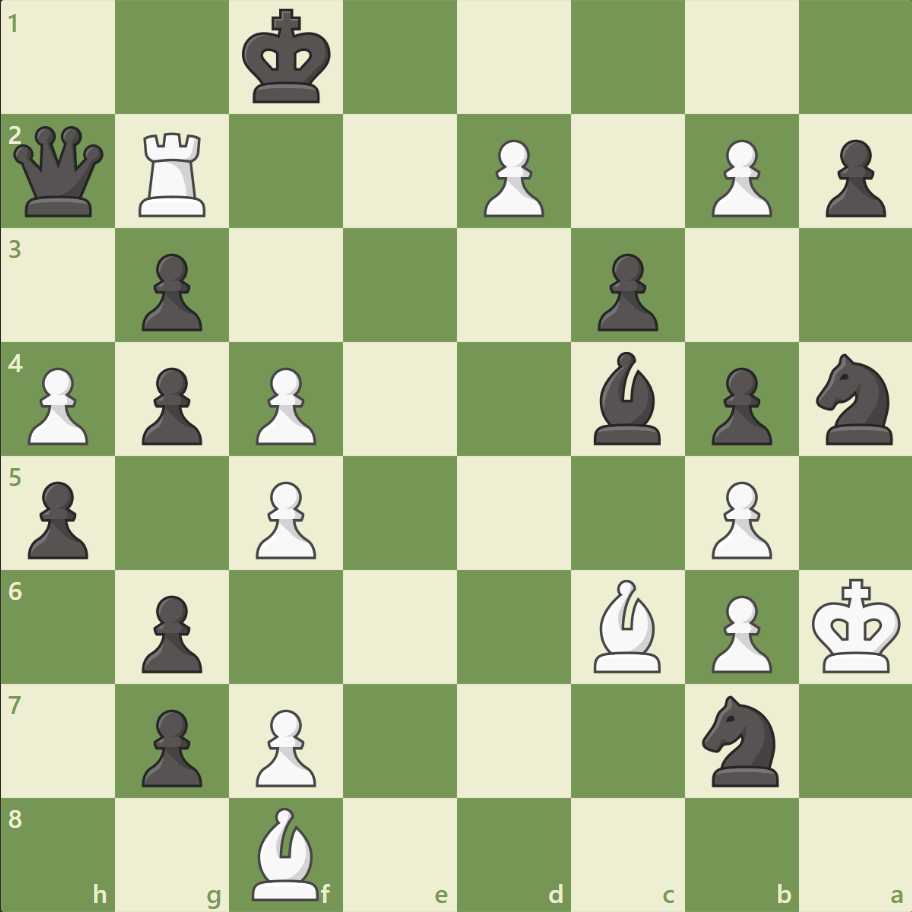B: (244, 801, 328, 904), (585, 574, 669, 676)
K: (806, 571, 906, 679)
P: (247, 700, 322, 791), (701, 586, 776, 677), (701, 473, 776, 564), (247, 473, 322, 564), (247, 359, 322, 450), (20, 359, 95, 450), (701, 132, 776, 223), (474, 132, 549, 223)
R: (133, 125, 215, 222)
b: (585, 347, 669, 449)
k: (238, 4, 338, 112)
n: (692, 688, 789, 791), (806, 348, 903, 450)
p: (133, 700, 208, 791), (133, 586, 208, 677), (20, 473, 95, 564), (701, 359, 776, 450), (133, 359, 208, 450), (133, 246, 208, 337), (588, 246, 662, 337), (815, 132, 889, 223)
q: (10, 122, 109, 222)
